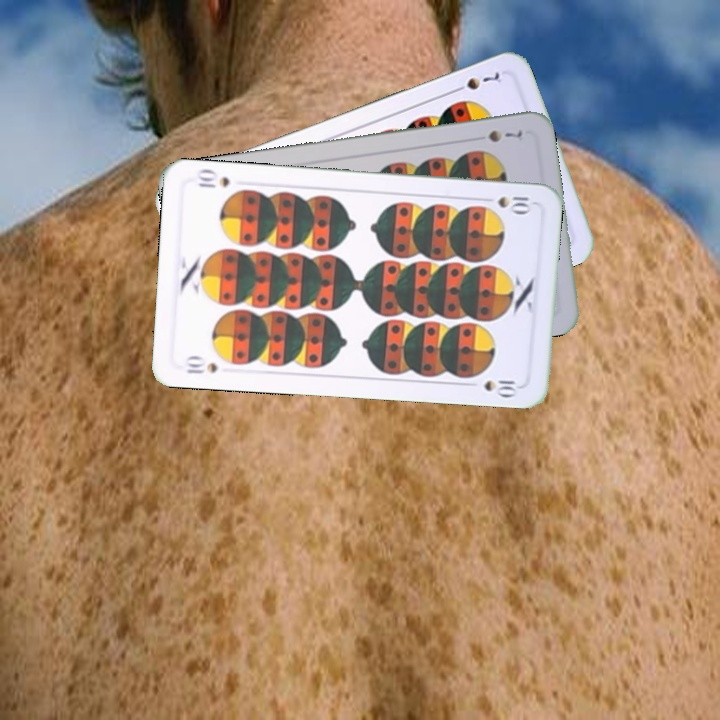S10: (493, 192, 536, 215), (182, 352, 220, 377)
S7: (448, 68, 504, 96), (484, 126, 528, 145)
